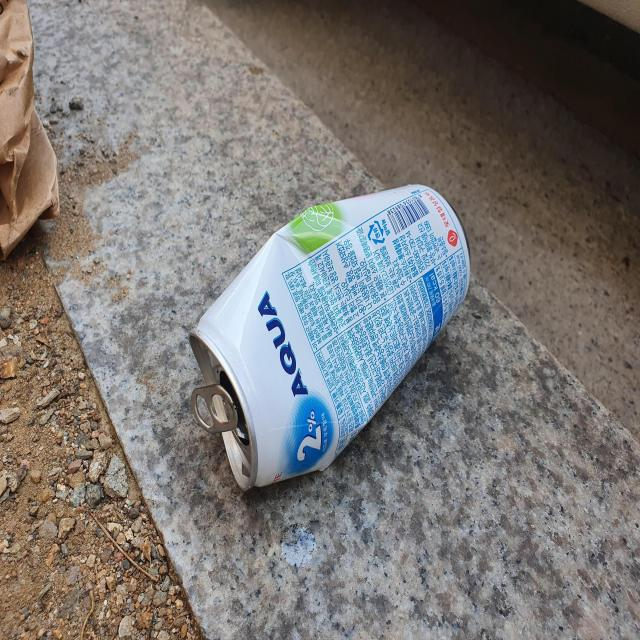can: (189, 184, 471, 490)
